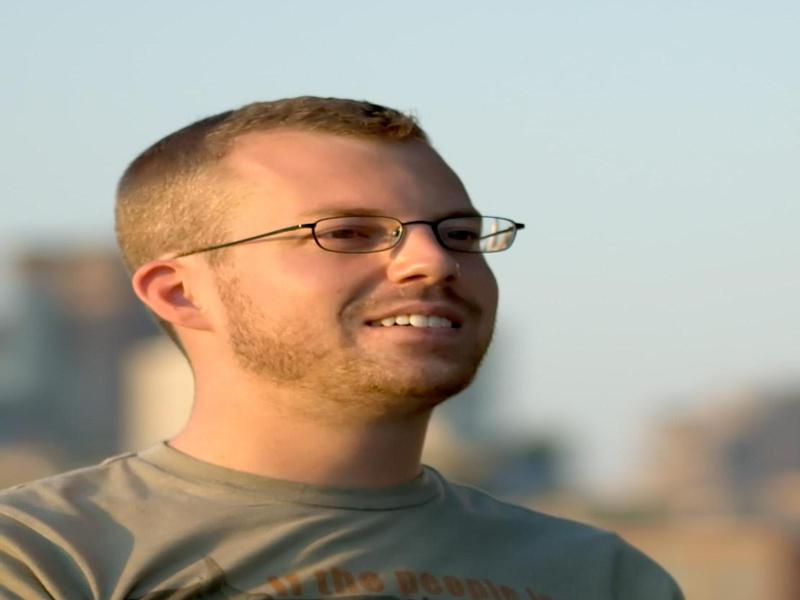person: (1, 95, 684, 600)
